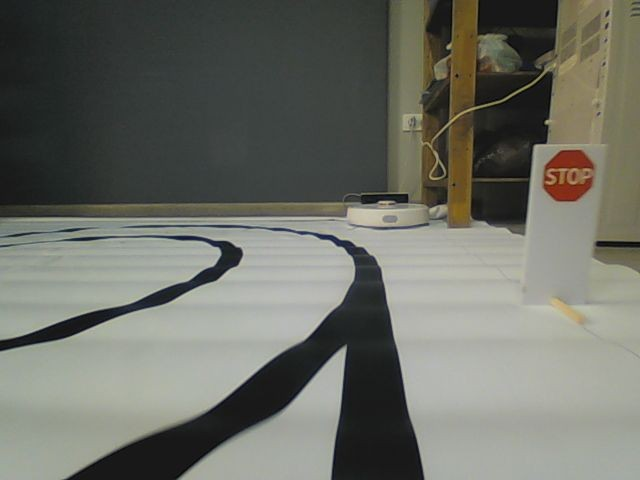Stop: (540, 147, 596, 204)
